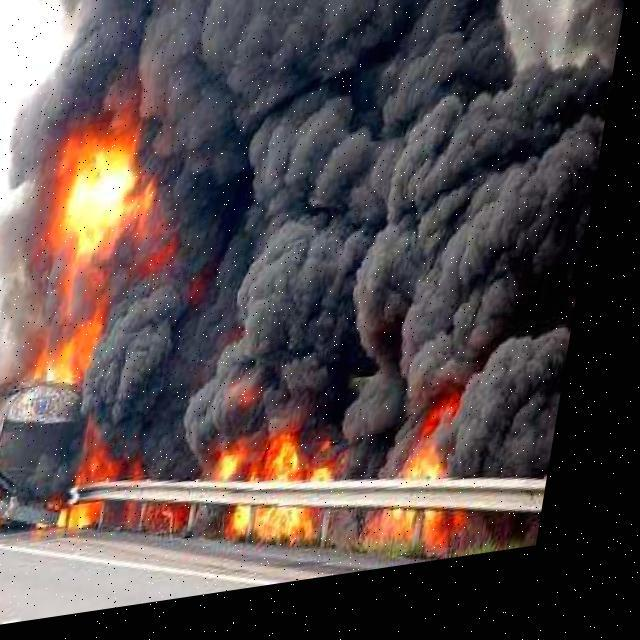Fire: (0, 96, 550, 621)
